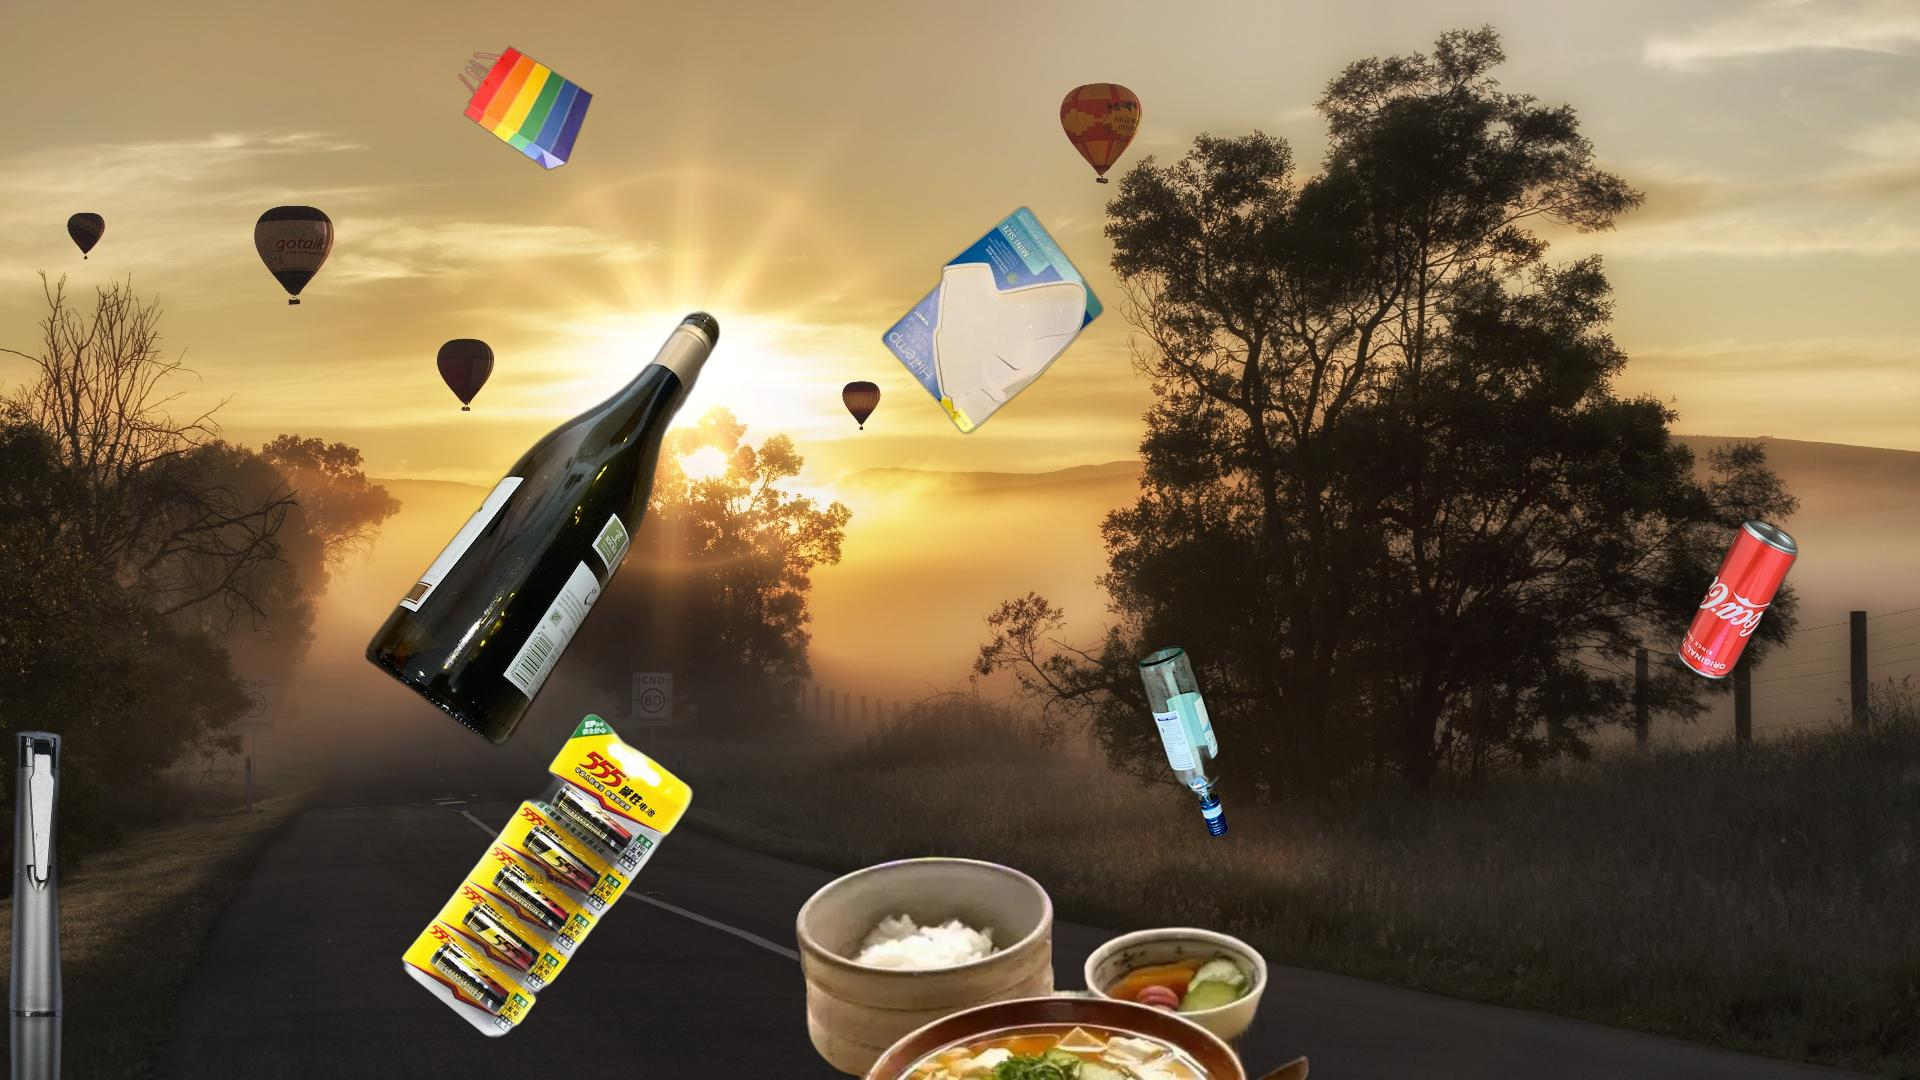battery: (335, 679, 698, 1044)
biological: (790, 852, 1331, 1080)
glass: (363, 307, 724, 753), (1134, 640, 1232, 843)
metal-cans: (1534, 513, 1801, 951)
paper: (877, 203, 1106, 436)
paper-bag: (456, 44, 596, 171)
penholder: (3, 728, 69, 1080)
